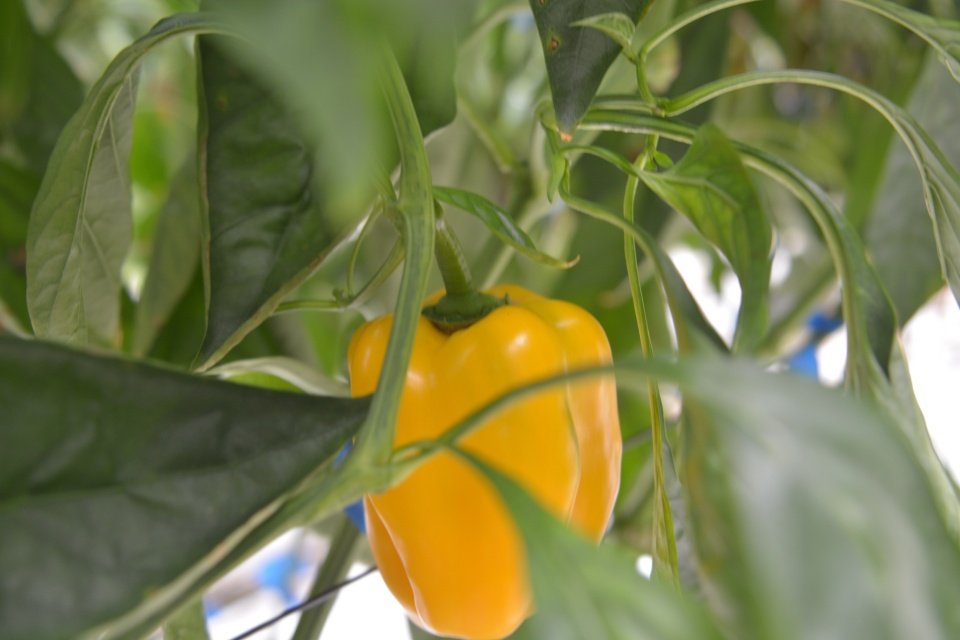fruit: (344, 282, 627, 640)
pedicle: (423, 288, 509, 331)
